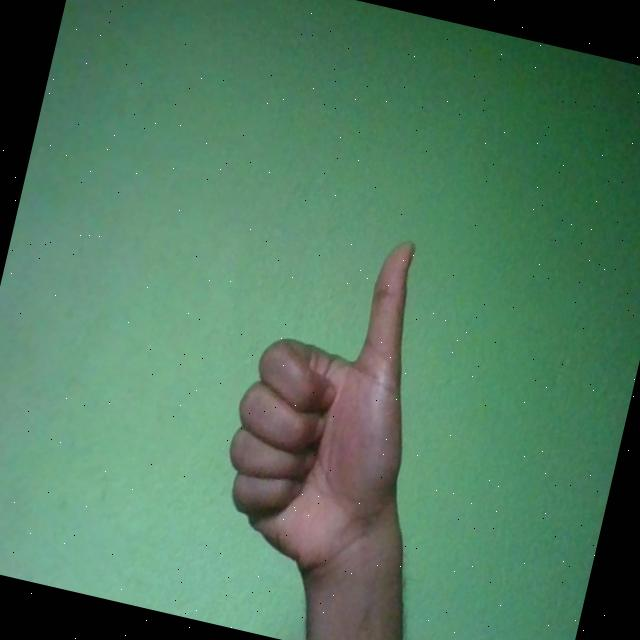Good Job: (204, 213, 450, 591)
